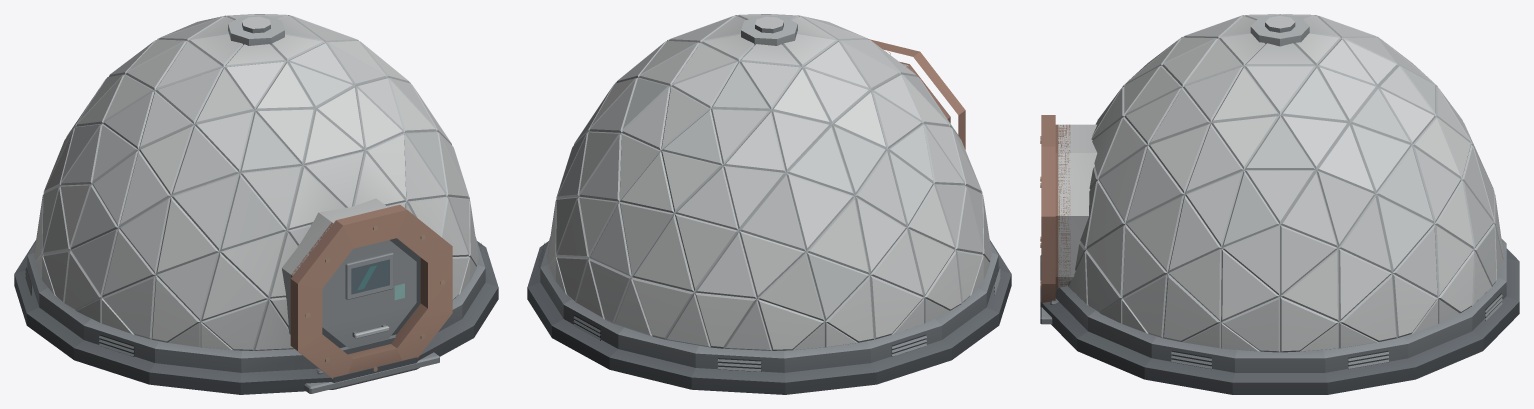
Rendered from dome.glb.
3 views of the same model, side by side, from view 1: azimuth 30°, elevation 25°; view 2: azimuth 150°, elevation 25°; view 3: azimuth 270°, elevation 25° (orthographic).
Bounding box in the file's own units: 11.99 × 7.5 × 11.99.
